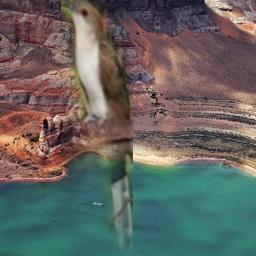Cuckoo: (61, 0, 133, 256)
